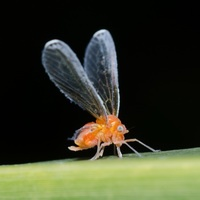insect: (42, 29, 155, 159)
